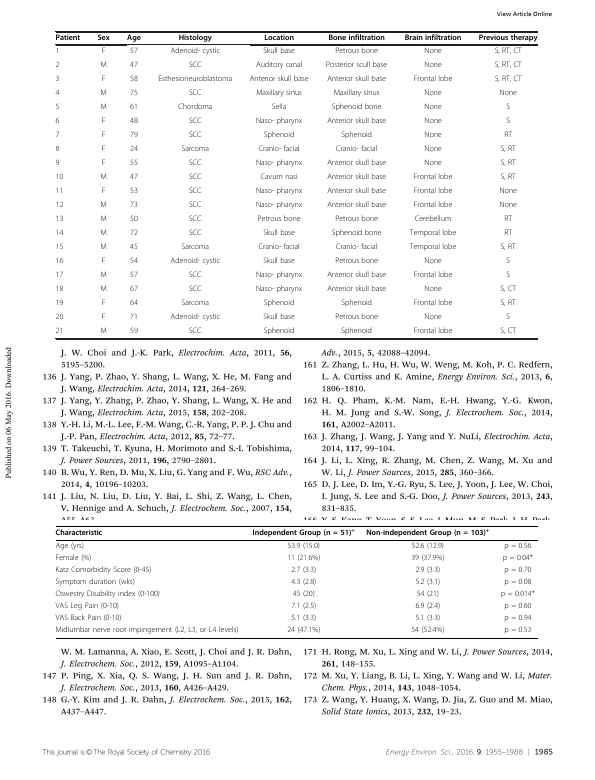borderless: (54, 30, 537, 338), (54, 525, 538, 638)
cell: (55, 626, 239, 635), (365, 527, 490, 538), (252, 527, 356, 538), (55, 590, 161, 600), (55, 566, 152, 576), (55, 578, 136, 588), (157, 75, 233, 85), (325, 61, 388, 71), (326, 75, 387, 85), (326, 117, 387, 127), (326, 159, 387, 169), (326, 173, 387, 183), (326, 187, 387, 197), (326, 201, 387, 211), (326, 271, 387, 281), (326, 285, 387, 295), (55, 614, 122, 623), (249, 75, 309, 85), (55, 602, 120, 611), (478, 34, 538, 43), (327, 34, 386, 43), (404, 34, 462, 43), (169, 47, 221, 57), (169, 257, 221, 267), (169, 313, 221, 323), (331, 103, 382, 113), (331, 229, 382, 239), (255, 61, 303, 71), (255, 89, 303, 99), (255, 117, 303, 127), (255, 159, 303, 169), (255, 187, 303, 197), (255, 201, 303, 211), (409, 229, 457, 239), (409, 243, 457, 253), (255, 271, 303, 281), (255, 285, 303, 295), (333, 89, 380, 99), (334, 47, 379, 57), (334, 215, 379, 225), (334, 257, 379, 267), (334, 313, 379, 323), (257, 145, 301, 155), (257, 215, 301, 225), (257, 243, 301, 253), (55, 529, 103, 538), (335, 145, 378, 155), (335, 243, 378, 253), (413, 75, 453, 85), (259, 173, 299, 183), (413, 173, 453, 183), (413, 187, 453, 197), (413, 201, 453, 211), (413, 271, 453, 281), (413, 299, 453, 309), (413, 327, 453, 337), (414, 215, 452, 225), (55, 554, 92, 564), (177, 103, 213, 113), (500, 590, 536, 600), (286, 542, 321, 552), (286, 554, 321, 564), (410, 554, 445, 564), (262, 47, 296, 57), (262, 229, 296, 239), (262, 257, 296, 267), (262, 313, 296, 323), (411, 542, 445, 552), (340, 131, 373, 141), (340, 299, 373, 309), (340, 327, 373, 337), (263, 131, 295, 141), (263, 299, 295, 309), (263, 327, 295, 337), (502, 554, 534, 564), (178, 34, 213, 43), (286, 626, 321, 635), (410, 626, 445, 635), (180, 145, 210, 155), (180, 243, 210, 253), (180, 299, 210, 309), (55, 542, 85, 552), (494, 47, 523, 57), (494, 61, 523, 71), (494, 75, 523, 85), (503, 542, 532, 552), (503, 566, 532, 576), (503, 578, 532, 588), (263, 34, 295, 43), (290, 566, 317, 576), (414, 566, 441, 576), (290, 578, 317, 588), (414, 578, 441, 588), (503, 602, 532, 611), (503, 614, 532, 623), (503, 626, 532, 635), (290, 602, 317, 611), (414, 602, 441, 611), (290, 614, 317, 623), (414, 614, 441, 623), (292, 590, 316, 600), (416, 590, 440, 600), (55, 34, 81, 43), (423, 47, 443, 57), (423, 61, 443, 71), (423, 89, 443, 99), (498, 89, 518, 99), (423, 103, 443, 113), (423, 117, 443, 127), (423, 131, 443, 141), (423, 145, 443, 155), (423, 159, 443, 169), (498, 187, 518, 197), (498, 201, 518, 211), (423, 257, 443, 267), (423, 285, 443, 295), (423, 313, 443, 323), (499, 285, 517, 295), (499, 327, 517, 337), (500, 145, 517, 155), (500, 159, 517, 169), (500, 173, 517, 183), (500, 243, 517, 253), (500, 299, 517, 309), (271, 103, 287, 113), (126, 34, 142, 43), (188, 61, 202, 71), (188, 89, 202, 99), (188, 117, 202, 127), (188, 131, 202, 141), (188, 159, 202, 169), (188, 173, 202, 183), (188, 187, 202, 197), (188, 201, 202, 211), (188, 215, 202, 225), (188, 229, 202, 239), (188, 271, 202, 281), (188, 285, 202, 295), (188, 327, 202, 337), (96, 34, 111, 43), (129, 47, 139, 57), (129, 61, 139, 71), (129, 75, 139, 85), (129, 89, 139, 99), (129, 103, 139, 113), (129, 117, 139, 127), (129, 131, 139, 141), (503, 131, 513, 141), (129, 145, 139, 155), (129, 159, 139, 169), (129, 173, 139, 183), (129, 187, 139, 197), (129, 201, 139, 211), (129, 215, 139, 225), (503, 215, 513, 225), (129, 229, 139, 239), (503, 229, 513, 239), (129, 243, 139, 253), (129, 257, 139, 267), (129, 271, 139, 281), (129, 285, 139, 295), (129, 299, 139, 309), (129, 313, 139, 323), (129, 327, 139, 337), (99, 61, 108, 71), (99, 89, 108, 99), (99, 103, 108, 113), (55, 173, 64, 183), (99, 173, 108, 183), (55, 187, 64, 197), (55, 201, 64, 211), (99, 201, 108, 211), (55, 215, 64, 225), (99, 215, 108, 225), (55, 229, 64, 239), (99, 229, 108, 239), (55, 243, 64, 253), (99, 243, 108, 253), (55, 257, 64, 267), (55, 271, 64, 281), (99, 271, 108, 281), (55, 285, 64, 295), (99, 285, 108, 295), (55, 299, 64, 309), (55, 313, 64, 323), (55, 327, 64, 337), (99, 327, 108, 337), (505, 103, 511, 113), (505, 117, 511, 127), (505, 257, 511, 267), (505, 271, 511, 281), (505, 313, 511, 323), (55, 47, 60, 57), (101, 47, 106, 57), (55, 61, 60, 71), (55, 75, 60, 85), (101, 75, 106, 85), (55, 89, 60, 99), (55, 103, 60, 113), (55, 117, 60, 127), (101, 117, 106, 127), (55, 131, 60, 141), (101, 131, 106, 141), (55, 145, 60, 155), (101, 145, 106, 155), (55, 159, 60, 169), (101, 159, 106, 169), (101, 187, 106, 197), (101, 257, 106, 267), (101, 299, 106, 309), (101, 313, 106, 323)
